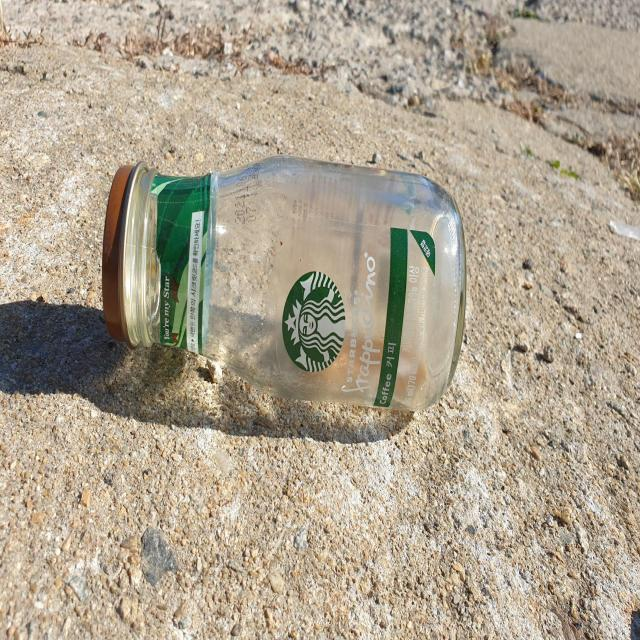glass: (101, 156, 467, 410)
